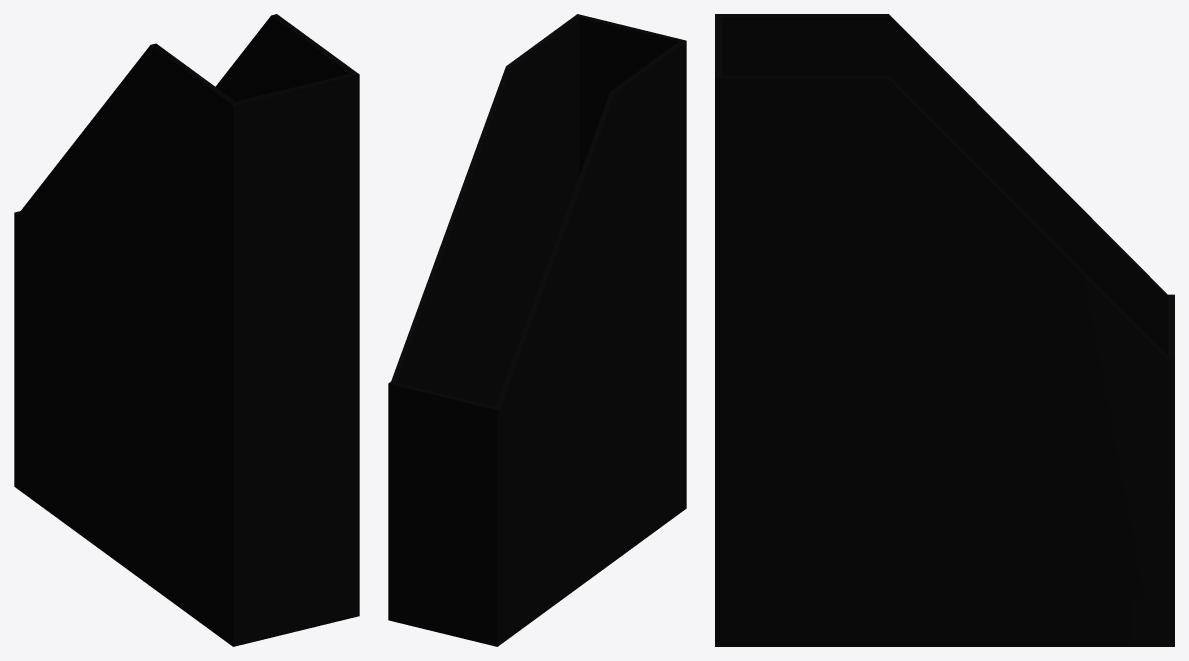
Rendered from Paper Holder(Verticle)_lod2.fbx.
3 views of the same model, side by side, from view 1: azimuth 30°, elevation 25°; view 2: azimuth 150°, elevation 25°; view 3: azimuth 270°, elevation 25° (orthographic). The views are drawn at different scales.
Visible parts, largest first — view 1: Paper_Holder_Verticle_; view 2: Paper_Holder_Verticle_; view 3: Paper_Holder_Verticle_.
Boxes of the visible parts, left/top/right/bottom form: Paper_Holder_Verticle_: left=14, top=14, right=359, bottom=646; Paper_Holder_Verticle_: left=388, top=14, right=686, bottom=646; Paper_Holder_Verticle_: left=715, top=14, right=1174, bottom=646.
Size of the model in its own units: 1.1 by 4.5 by 3.3.
